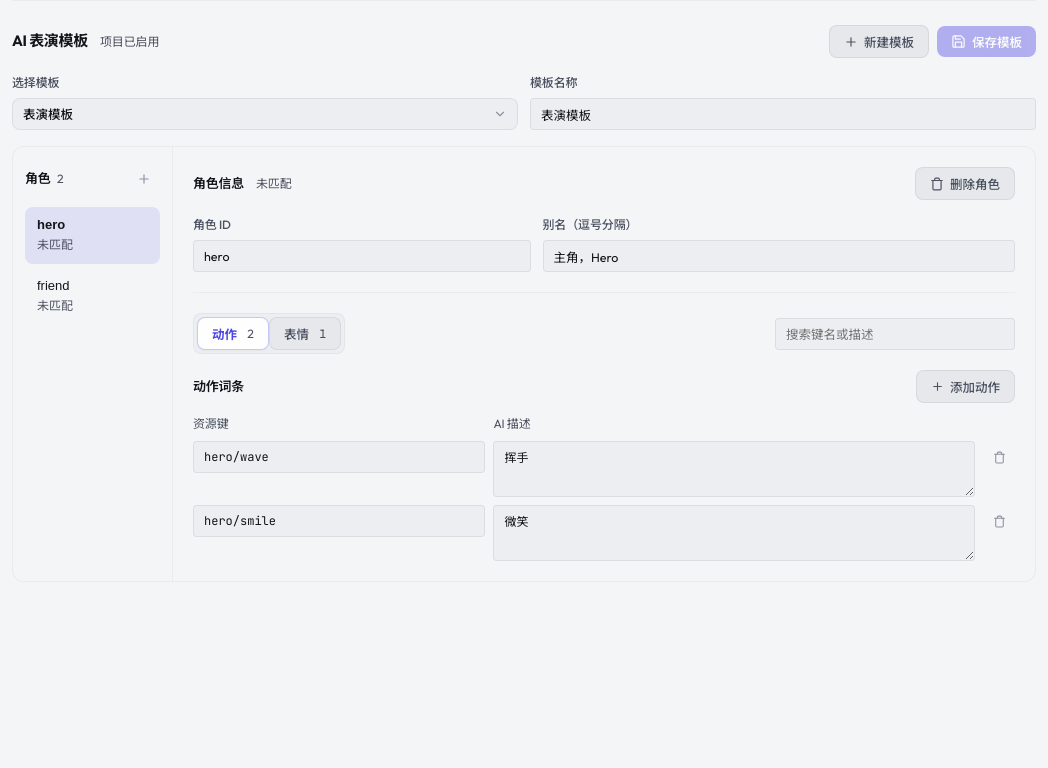
Scenario: TemplatePerformanceProfileEditor › updates normalized alias matches immediately as aliases and IDs are edited
Expected: the message named "角色匹配结果" reads "未匹配", left=256, top=176, right=292, bottom=190
Replace the text in the field labelled "别名（逗号分隔）" with " 長崎素世 ". click: point(779, 256)
box: left=542, top=240, right=1015, bottom=272
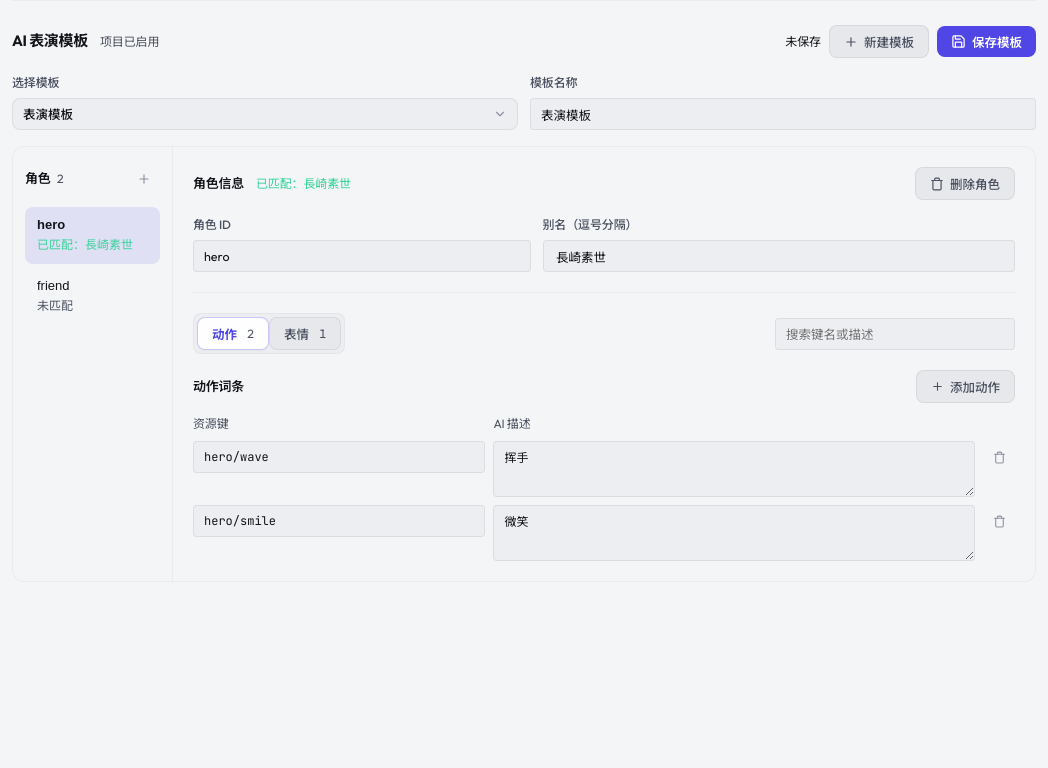
Expected: the message named "角色匹配结果" reads "已匹配：長崎素世", left=256, top=176, right=351, bottom=190
Replace the text in the field labelled "别名（逗号分隔）" with "其他别名". click: point(779, 256)
box: left=542, top=240, right=1015, bottom=272
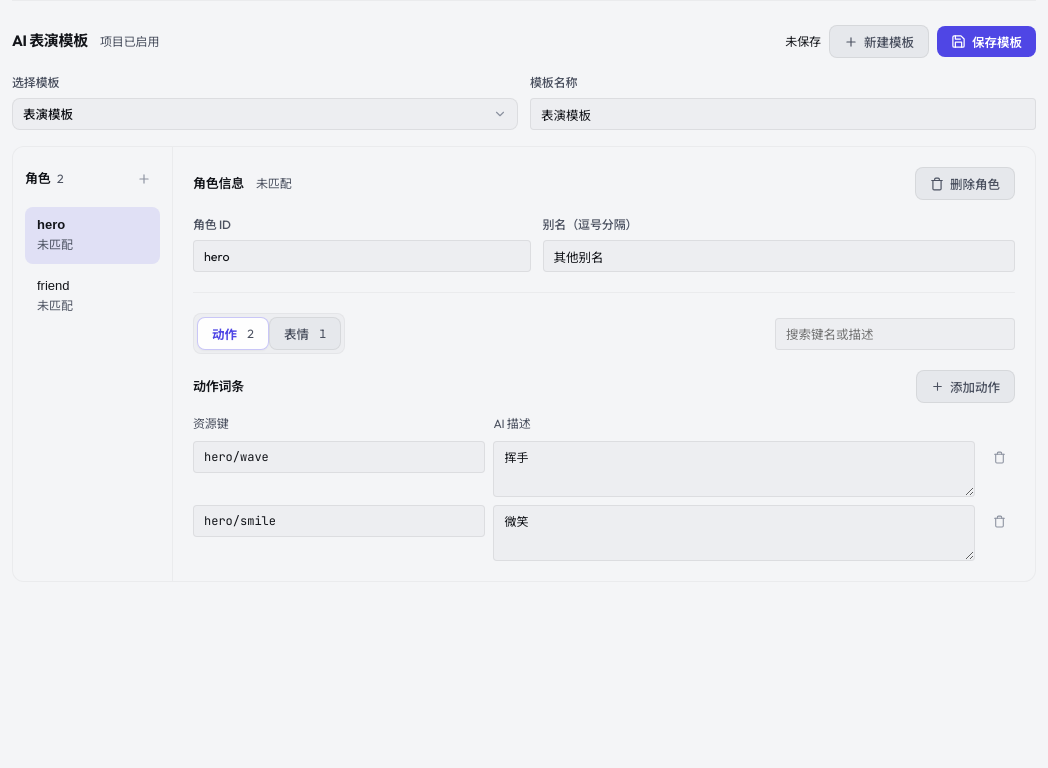
Expected: the message named "角色匹配结果" reads "未匹配", left=256, top=176, right=292, bottom=190
Replace the text in the field labelled "角色 ID" with "scene.soyo". click: point(362, 256)
box: left=193, top=240, right=530, bottom=272
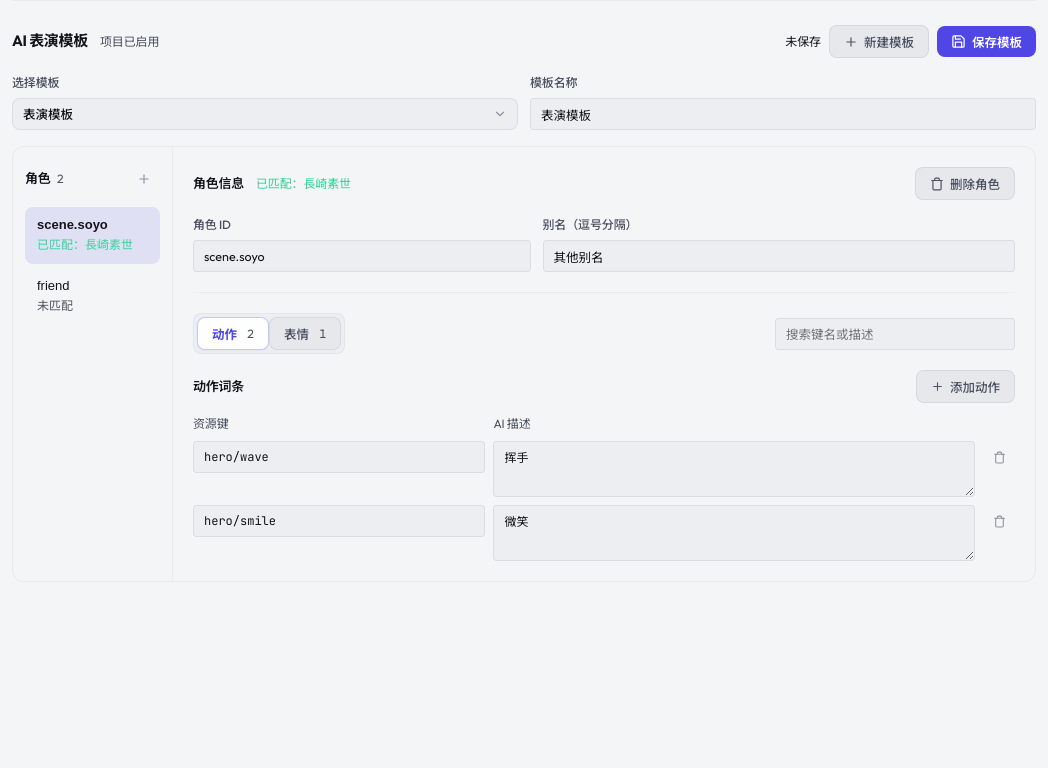
Expected: the message named "角色匹配结果" reads "已匹配：長崎素世", left=256, top=176, right=351, bottom=190
